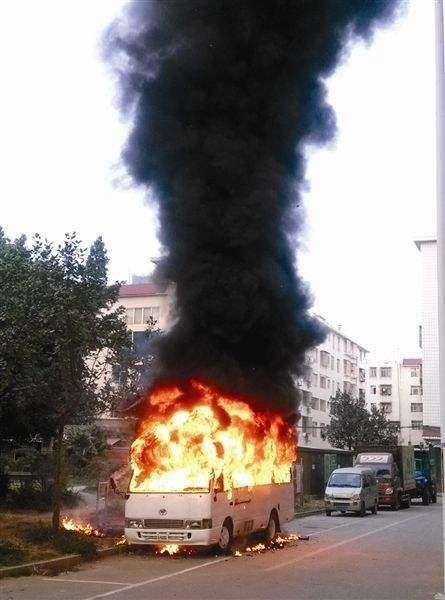fire: (126, 383, 299, 495), (230, 534, 290, 557), (58, 515, 104, 537), (151, 535, 190, 556)
